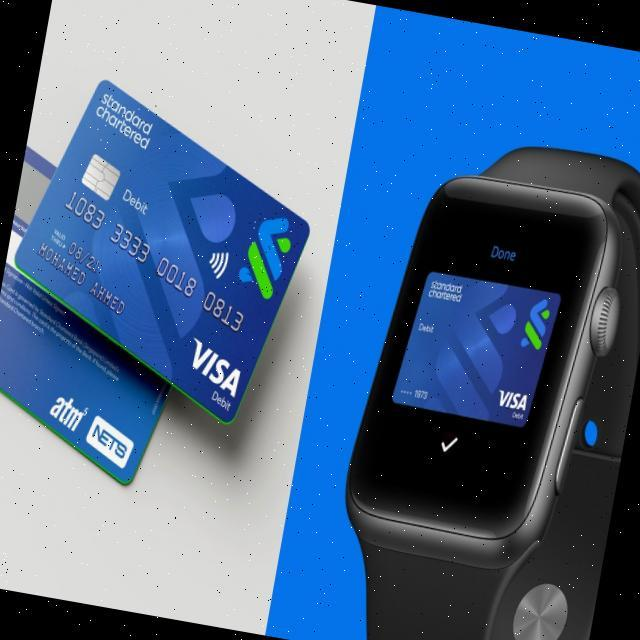Standard Chartered: (235, 208, 297, 303), (92, 90, 158, 151), (520, 295, 552, 350)
